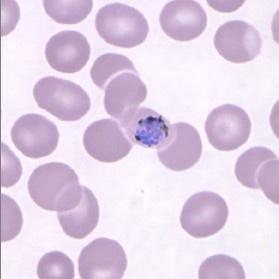Infected: (121, 106, 175, 150)
Uninfected: (27, 162, 81, 211), (35, 77, 91, 122), (156, 121, 203, 171), (179, 191, 230, 237), (95, 2, 147, 47), (56, 184, 99, 238), (204, 103, 251, 151), (83, 118, 133, 162), (10, 113, 59, 157), (213, 20, 262, 63), (104, 73, 147, 122), (78, 237, 127, 279), (45, 30, 91, 74), (158, 0, 206, 42), (234, 146, 278, 189), (91, 53, 140, 90)
